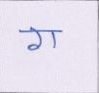aa_matra: (51, 32, 56, 48)
